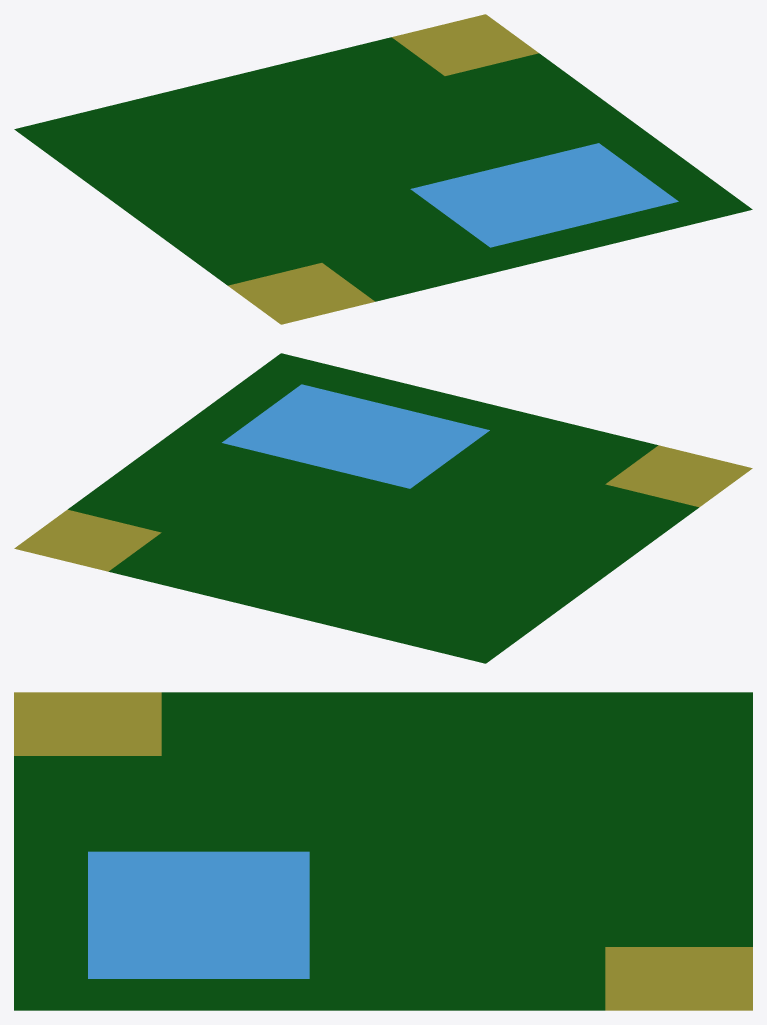
The model's file is field1.FBX.
3 renders of one model, top to bottom at view 1: azimuth 30°, elevation 25°; view 2: azimuth 150°, elevation 25°; view 3: azimuth 270°, elevation 25°, orthographic. The views are drawn at different scales.
Parts seen in each view (by area): view 1: floor; view 2: floor; view 3: floor.
Boxes of the visible parts, x1,y1,x2,y2 form: floor: (14, 14, 752, 324); floor: (14, 353, 752, 663); floor: (14, 692, 752, 1010).
Bounding box in the file's own units: 142 × 8.51e-15 × 139.
